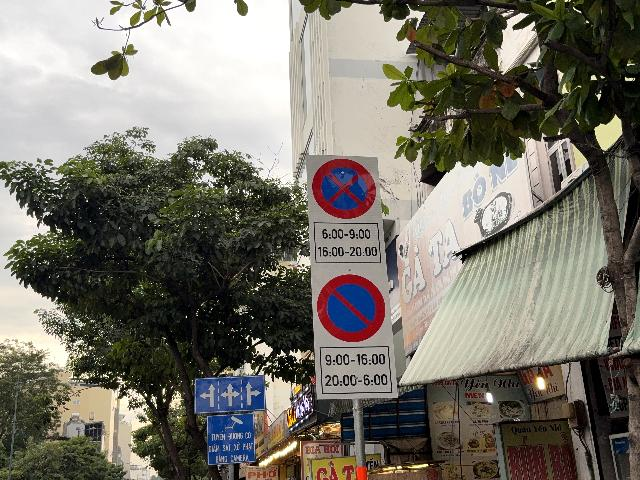cam-do-xe: (317, 274, 386, 342)
cam-dung-va-do-xe: (313, 158, 376, 219)
